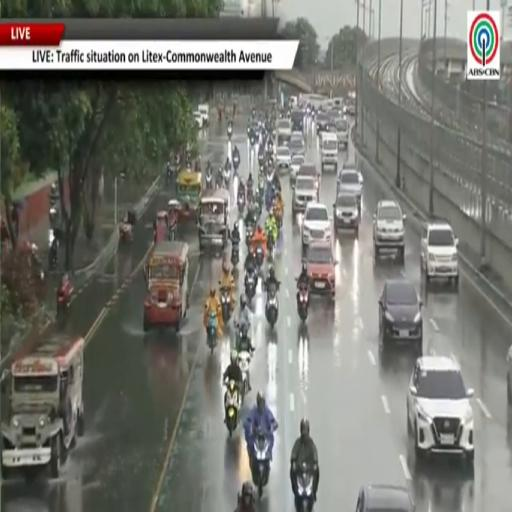car: (407, 356, 474, 468), (379, 280, 422, 354), (421, 220, 459, 289), (373, 200, 405, 264), (305, 243, 336, 297), (356, 485, 415, 511), (301, 202, 332, 247), (337, 165, 363, 213), (333, 192, 360, 236), (292, 176, 317, 217), (297, 163, 320, 200), (320, 132, 338, 172), (291, 155, 305, 184), (336, 119, 349, 149), (288, 135, 305, 156), (316, 111, 330, 134), (276, 147, 291, 168), (291, 109, 303, 132), (198, 104, 209, 126), (507, 346, 511, 406), (277, 119, 291, 136), (193, 111, 203, 129)
jeepney: (0, 332, 84, 477), (144, 240, 189, 331), (198, 188, 229, 250), (177, 169, 202, 220), (154, 210, 169, 243)
motorcycle: (252, 428, 271, 498), (295, 462, 314, 511), (225, 380, 241, 437), (56, 280, 74, 319), (237, 350, 251, 398), (265, 283, 278, 328), (206, 312, 218, 354), (298, 283, 309, 322), (221, 286, 231, 324), (245, 270, 257, 300), (48, 236, 58, 271), (255, 244, 264, 267), (267, 231, 274, 260), (237, 190, 245, 214), (246, 224, 254, 247), (231, 244, 239, 266), (216, 167, 224, 188), (168, 224, 177, 241), (223, 168, 230, 188), (206, 171, 213, 189), (233, 153, 240, 171), (258, 152, 264, 167), (248, 187, 253, 202), (228, 123, 232, 140), (250, 134, 255, 147), (247, 126, 251, 137)
